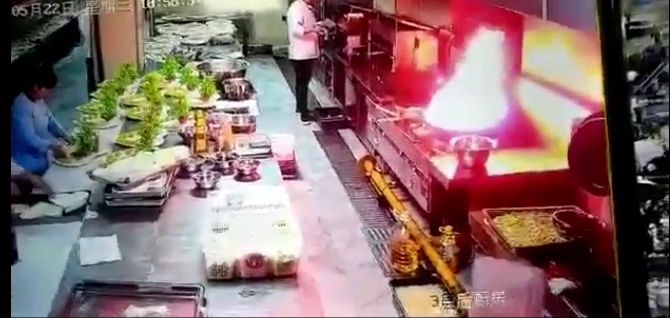fire: (432, 31, 509, 135)
